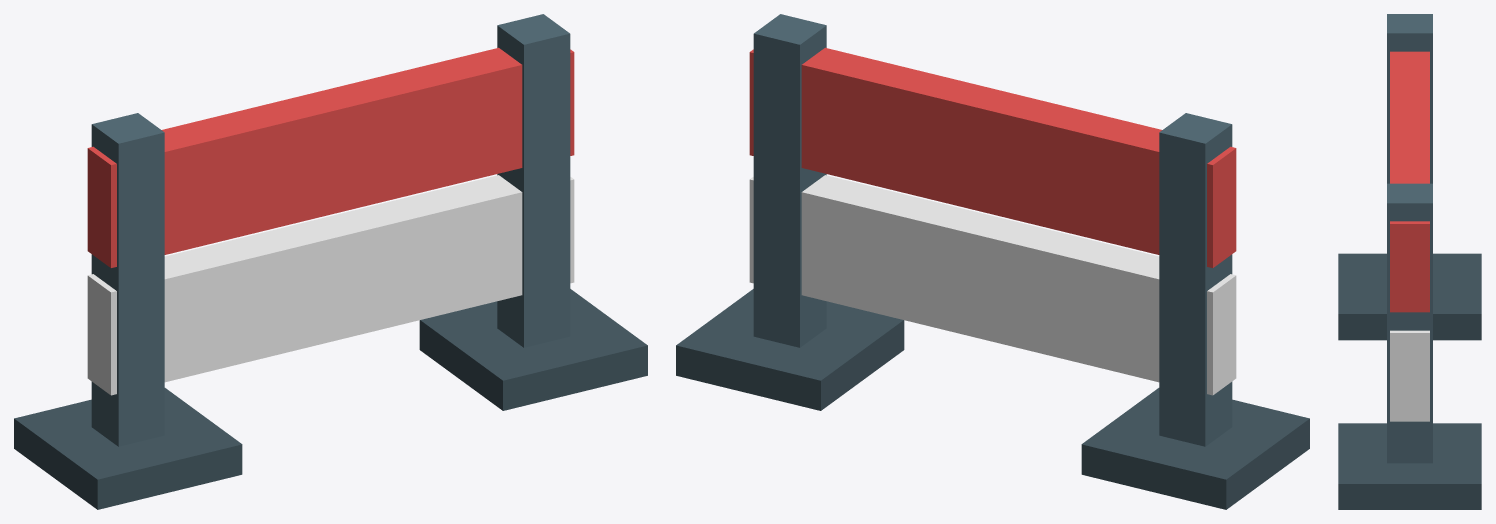
The model's file is barrier.glb.
The picture shows the model from 3 angles, left to right: view 1: azimuth 30°, elevation 25°; view 2: azimuth 150°, elevation 25°; view 3: azimuth 270°, elevation 25°; orthographic projection. The views are drawn at different scales.
Visible parts, largest first — view 1: runner/barrier; view 2: runner/barrier; view 3: runner/barrier.
Part boxes in pixels (<box>): runner/barrier: <box>14,14,647,509</box>; runner/barrier: <box>676,14,1309,509</box>; runner/barrier: <box>1338,14,1481,509</box>.
Bounding box in the file's own units: 1 × 0.5789 × 0.2632.
